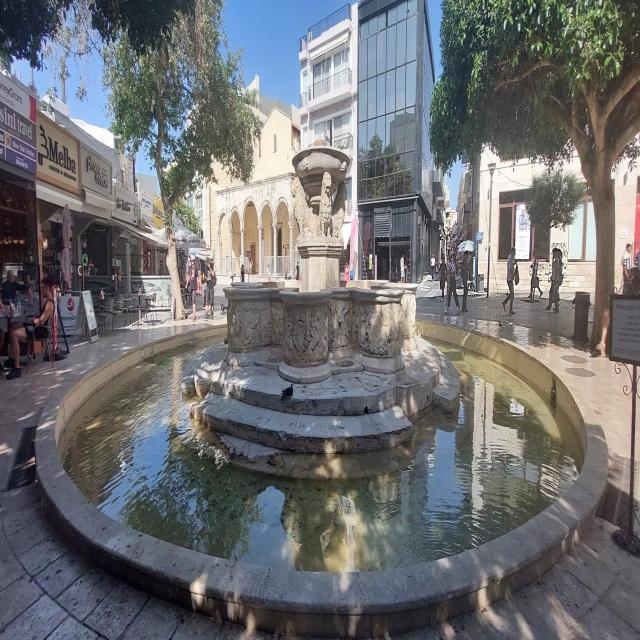Liontaria: (227, 144, 419, 380)
